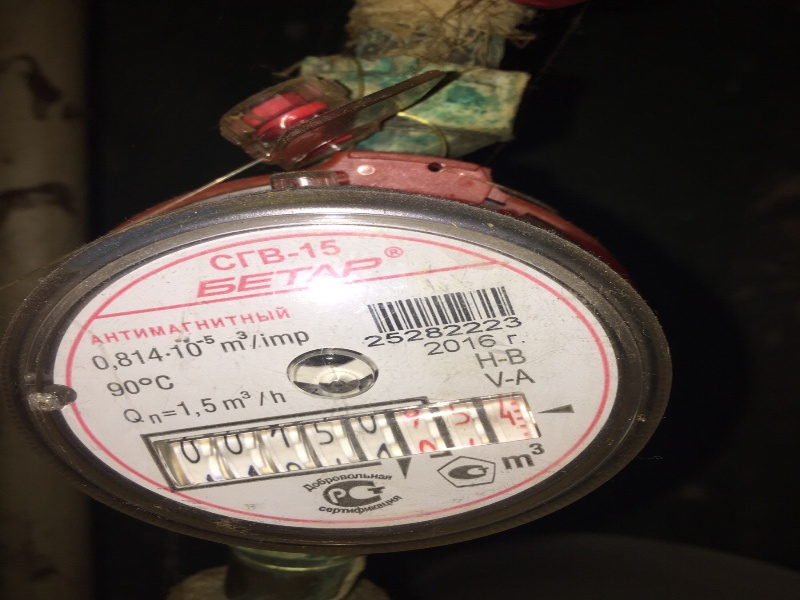meter: (158, 409, 538, 476)
